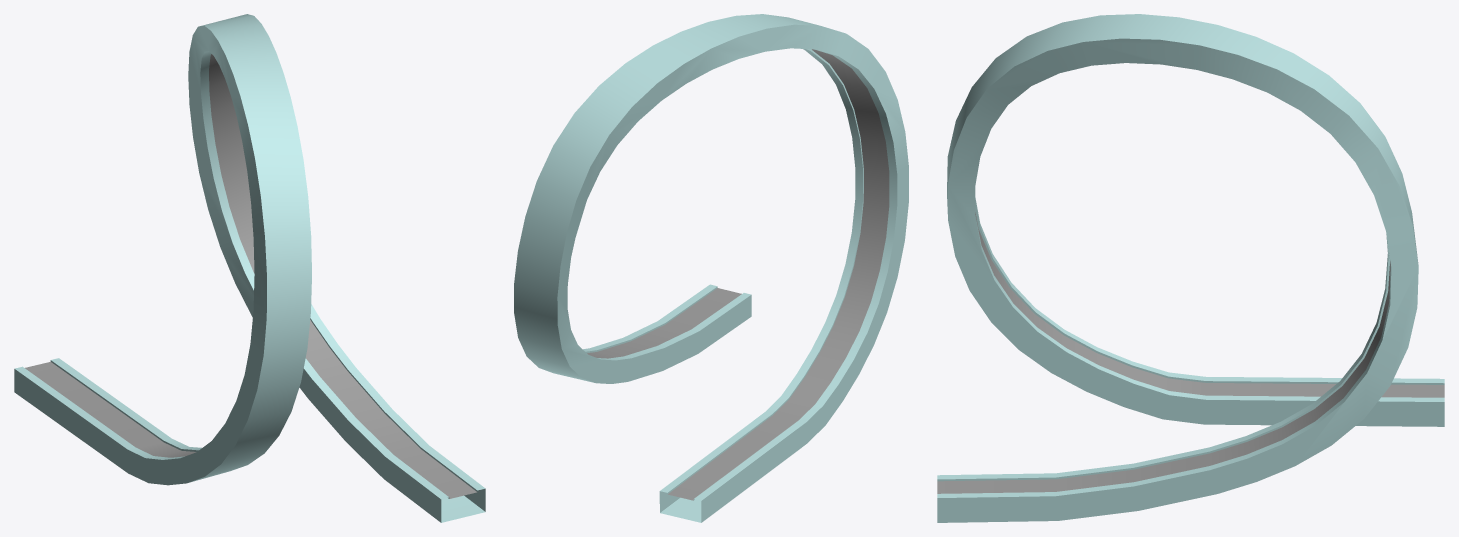
File: loop.fbx
3 renders of one model, left to right at view 1: azimuth 30°, elevation 25°; view 2: azimuth 150°, elevation 25°; view 3: azimuth 270°, elevation 25°, orthographic. The views are drawn at different scales.
Parts seen in each view (by area): view 1: Cube.027; view 2: Cube.027; view 3: Cube.027.
Boxes of the visible parts, x1=… form: Cube.027: x1=14, y1=14, x2=485, y2=522; Cube.027: x1=514, y1=14, x2=908, y2=522; Cube.027: x1=937, y1=14, x2=1444, y2=522.
Bounding box in the file's own units: 1054 × 1780 × 1899.
